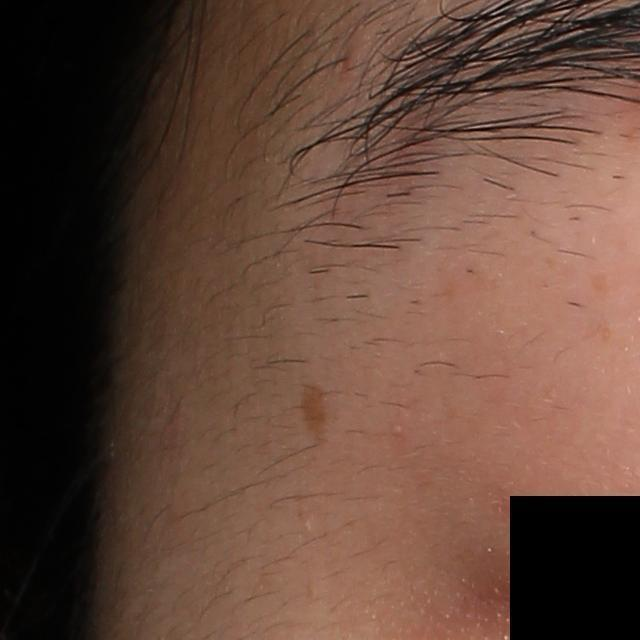melasma: (299, 385, 329, 447)
